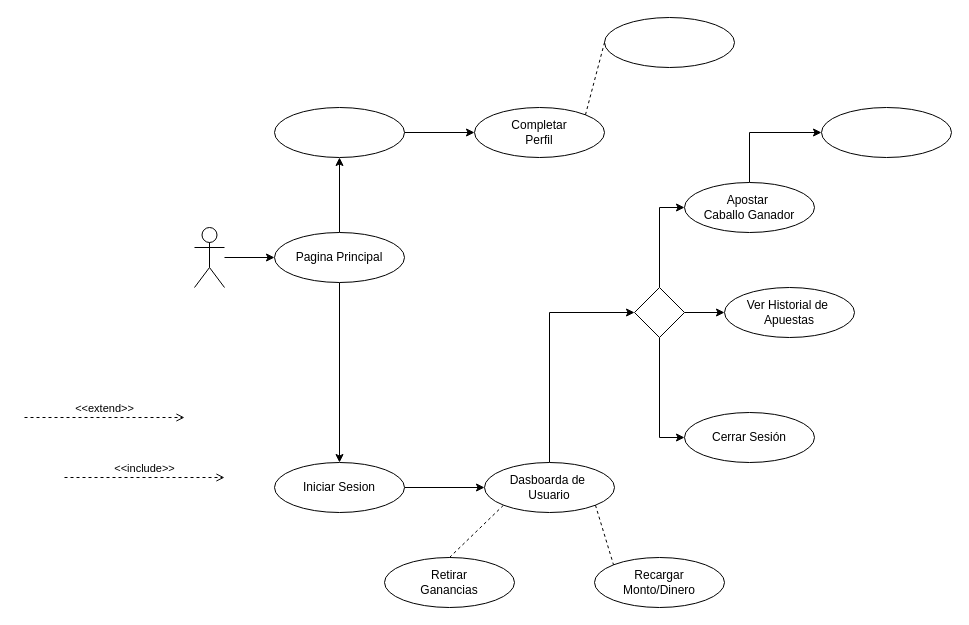
The diagram is 969 pixels wide and 625 high, and some of its shapes have lost their labels. The centre of each missing label's shape, as x and y in pixels:
"Apostador" goes at (x=209, y=257).
"Bonus extra de Bienvenida" goes at (x=669, y=42).
"Ingresar Monto" goes at (x=886, y=132).
"Registra" goes at (x=339, y=132).
